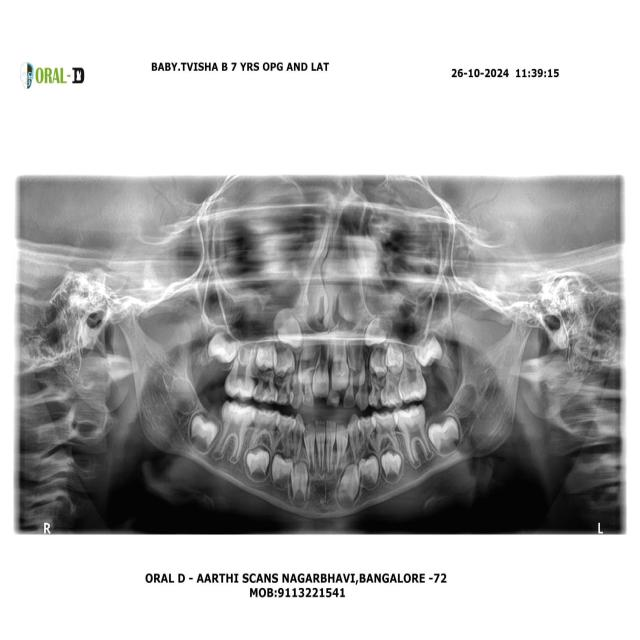Premolars: (359, 412, 378, 460)
